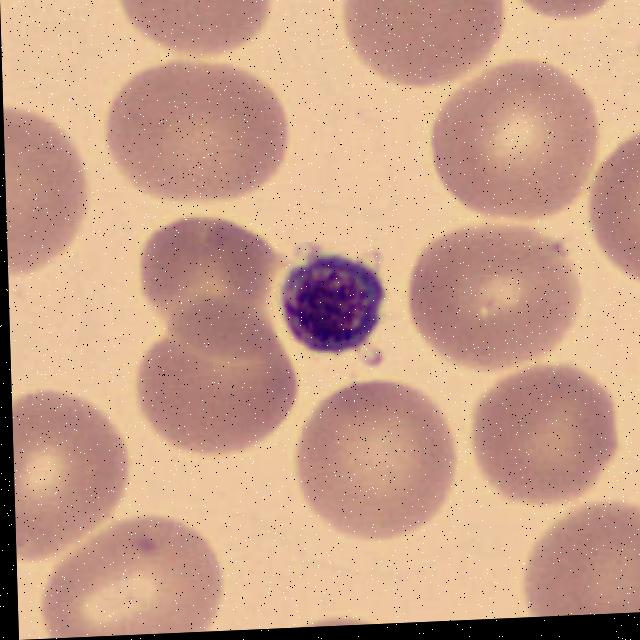platelets: (270, 233, 397, 366)
rbc: (425, 52, 604, 229), (92, 56, 293, 211), (126, 314, 309, 473), (289, 377, 461, 546), (405, 224, 584, 375), (127, 204, 286, 362), (34, 518, 239, 639), (11, 367, 137, 562), (462, 365, 623, 510), (3, 83, 98, 287), (322, 0, 511, 97), (514, 504, 640, 618), (113, 0, 283, 75), (584, 105, 640, 310), (475, 0, 629, 46), (269, 599, 387, 629), (633, 333, 640, 444)
